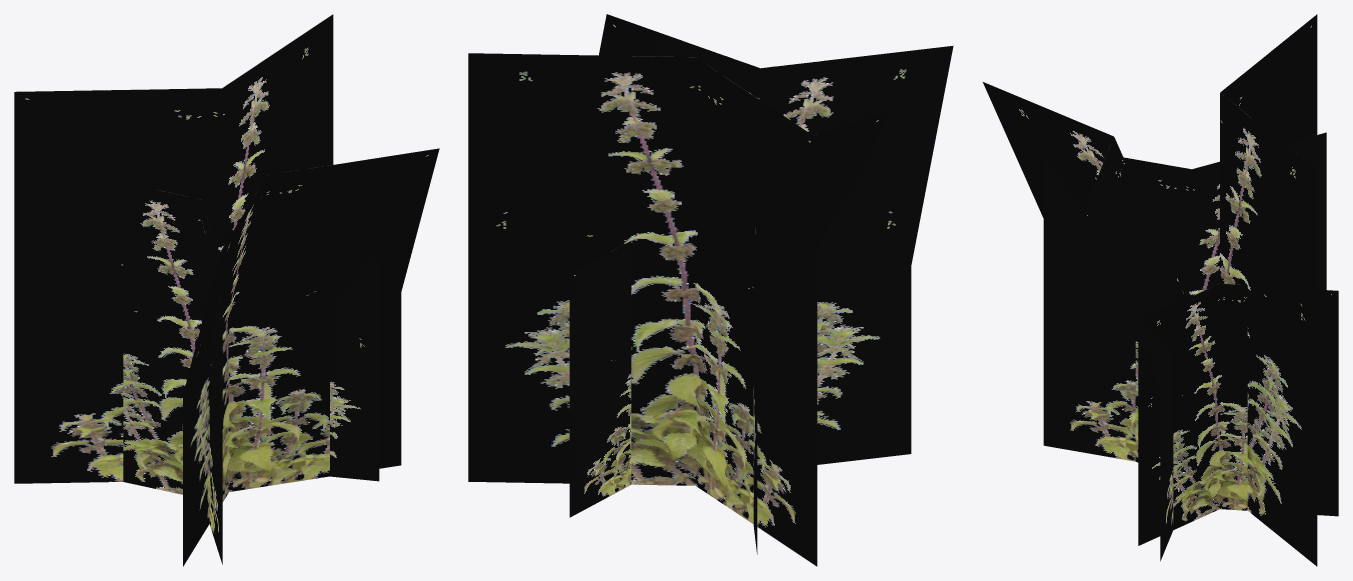
The model's file is BaseWeed_01.DAE.
3 renders of one model, left to right at view 1: azimuth 30°, elevation 25°; view 2: azimuth 150°, elevation 25°; view 3: azimuth 270°, elevation 25°, orthographic. The views are drawn at different scales.
Visible parts, largest first — view 1: BaseWeed300; view 2: BaseWeed300; view 3: BaseWeed300.
Part boxes in pixels (<box>): BaseWeed300: <box>14,14,439,566</box>; BaseWeed300: <box>468,14,953,566</box>; BaseWeed300: <box>983,14,1338,566</box>.
Size of the model in its own units: 129 by 124 by 152.
